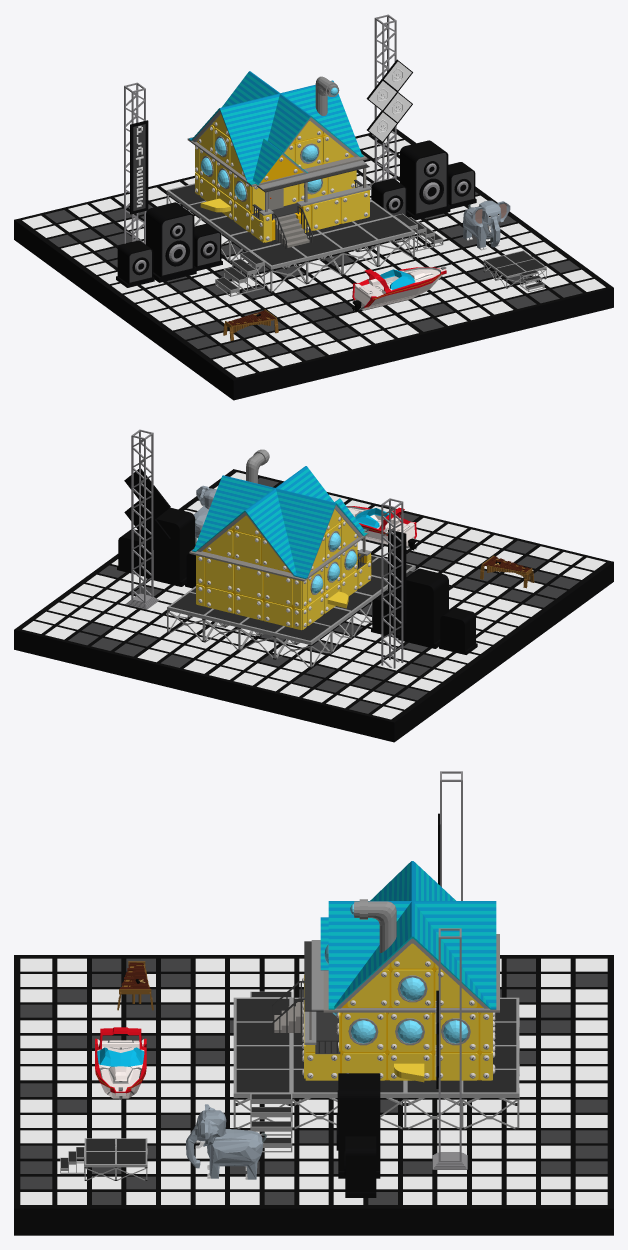
3 renders of one model, top to bottom at view 1: azimuth 30°, elevation 25°; view 2: azimuth 150°, elevation 25°; view 3: azimuth 270°, elevation 25°, orthographic. The views are drawn at different scales.
Visible parts, largest first — view 1: Cube.008, Cube.1366, VEHICLES_BOAT, ANIMAL_ELEFANTE, OBJRANDOM_MARIMBA; view 2: Cube.008, Cube.1366, VEHICLES_BOAT, OBJRANDOM_MARIMBA, ANIMAL_ELEFANTE; view 3: Cube.008, Cube.1366, ANIMAL_ELEFANTE, VEHICLES_BOAT, OBJRANDOM_MARIMBA.
Part boxes in pixels (box(x1,y1,x2,y2)): Cube.008: box(14, 14, 613, 400); Cube.1366: box(187, 71, 371, 248); VEHICLES_BOAT: box(352, 266, 446, 311); ANIMAL_ELEFANTE: box(463, 200, 510, 250); OBJRANDOM_MARIMBA: box(223, 309, 278, 340); Cube.008: box(14, 429, 613, 742); Cube.1366: box(189, 449, 372, 630); VEHICLES_BOAT: box(346, 506, 416, 550); OBJRANDOM_MARIMBA: box(480, 555, 534, 588); ANIMAL_ELEFANTE: box(193, 485, 216, 544); Cube.008: box(14, 771, 613, 1235); Cube.1366: box(272, 861, 499, 1082); ANIMAL_ELEFANTE: box(186, 1104, 266, 1179); VEHICLES_BOAT: box(95, 1027, 146, 1099); OBJRANDOM_MARIMBA: box(117, 961, 153, 1010).
Size of the model in its own units: 4000 by 2073 by 4000.
37 materials, 1 textured.
